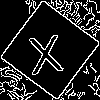X: (25, 25, 65, 75)
